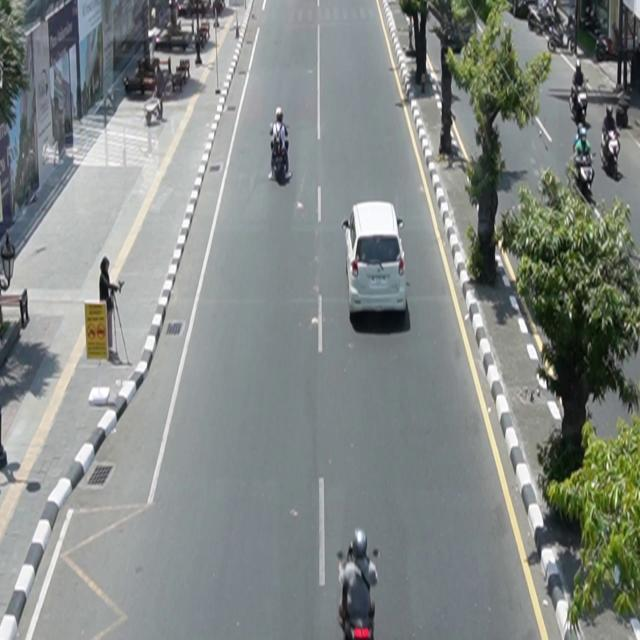car: (342, 201, 408, 318)
